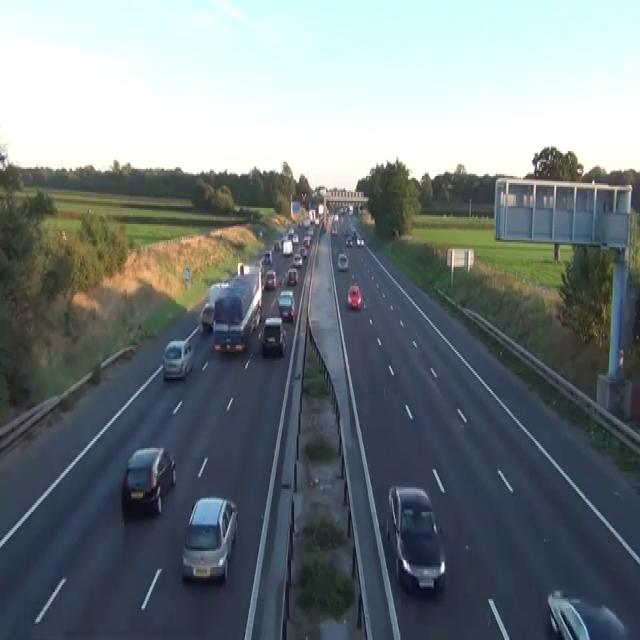Car: (386, 485, 446, 594), (181, 496, 238, 583), (546, 588, 628, 638), (122, 444, 176, 516), (212, 295, 246, 352), (162, 340, 194, 380), (260, 316, 286, 356), (277, 290, 296, 322), (209, 281, 230, 304), (200, 302, 214, 332), (347, 283, 361, 309), (264, 268, 276, 290), (337, 251, 348, 270), (287, 266, 298, 284), (282, 240, 292, 256), (0, 149, 7, 171), (264, 249, 272, 265), (293, 252, 302, 266), (57, 228, 66, 242), (259, 254, 266, 272), (299, 245, 307, 258), (303, 235, 311, 247), (273, 238, 280, 251), (356, 235, 364, 245), (345, 237, 353, 247), (331, 222, 337, 235), (350, 226, 357, 236), (292, 233, 299, 243), (287, 228, 294, 238), (343, 226, 350, 236), (320, 222, 326, 233), (303, 218, 309, 228), (308, 226, 314, 234), (314, 217, 319, 226), (333, 213, 338, 220), (259, 228, 262, 236)
Truck: (212, 261, 262, 354)
